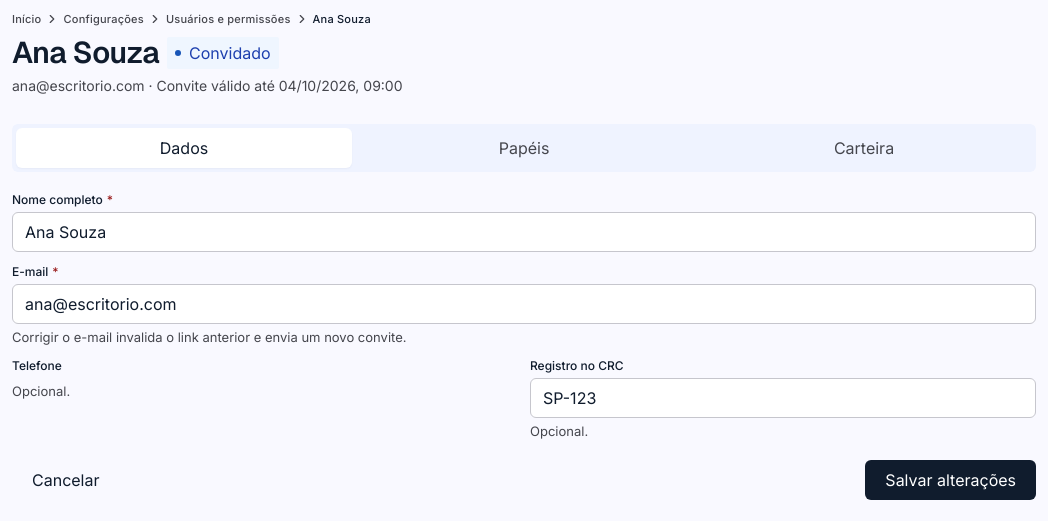
Test: abas Dados e Papéis (administrador) › e-mail em uso volta como erro no próprio campo, quando editável
Replace the text in the field labelled "E-mail*" with "outra@escritorio.com" at (524, 304), box [12, 284, 1036, 324]
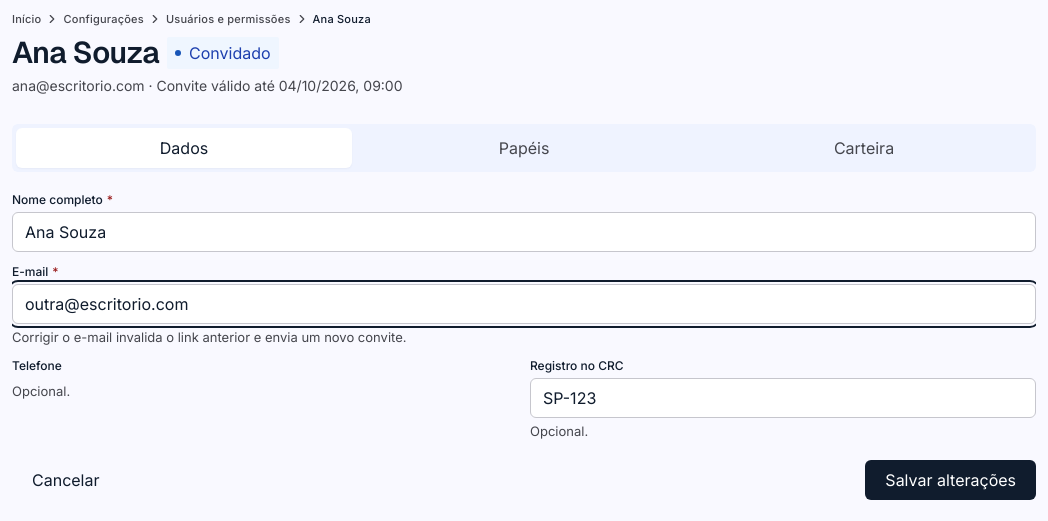
Click the button "Salvar alterações".
click(951, 480)  # box [865, 460, 1036, 500]
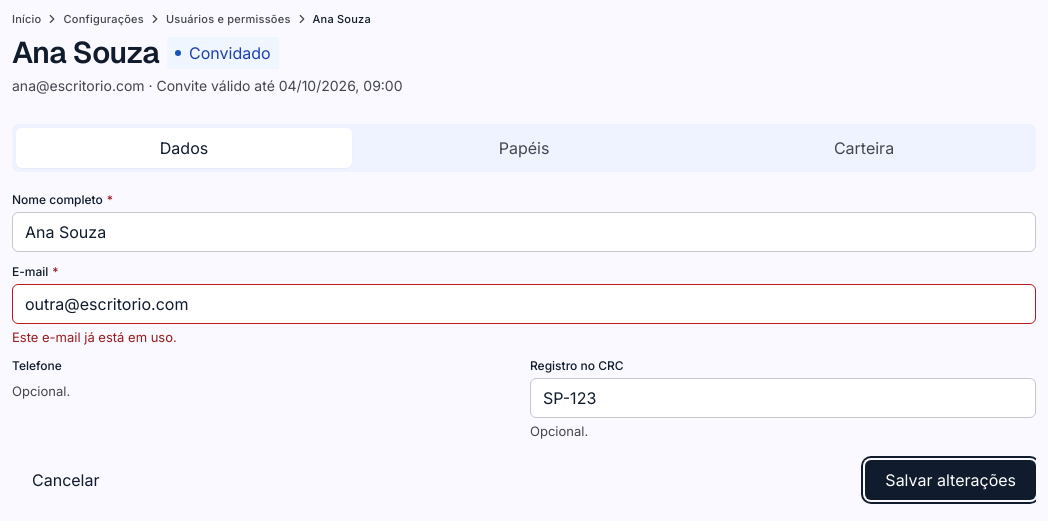
Result: the text "Este e-mail já está em uso." is shown at [12, 329, 177, 345]
